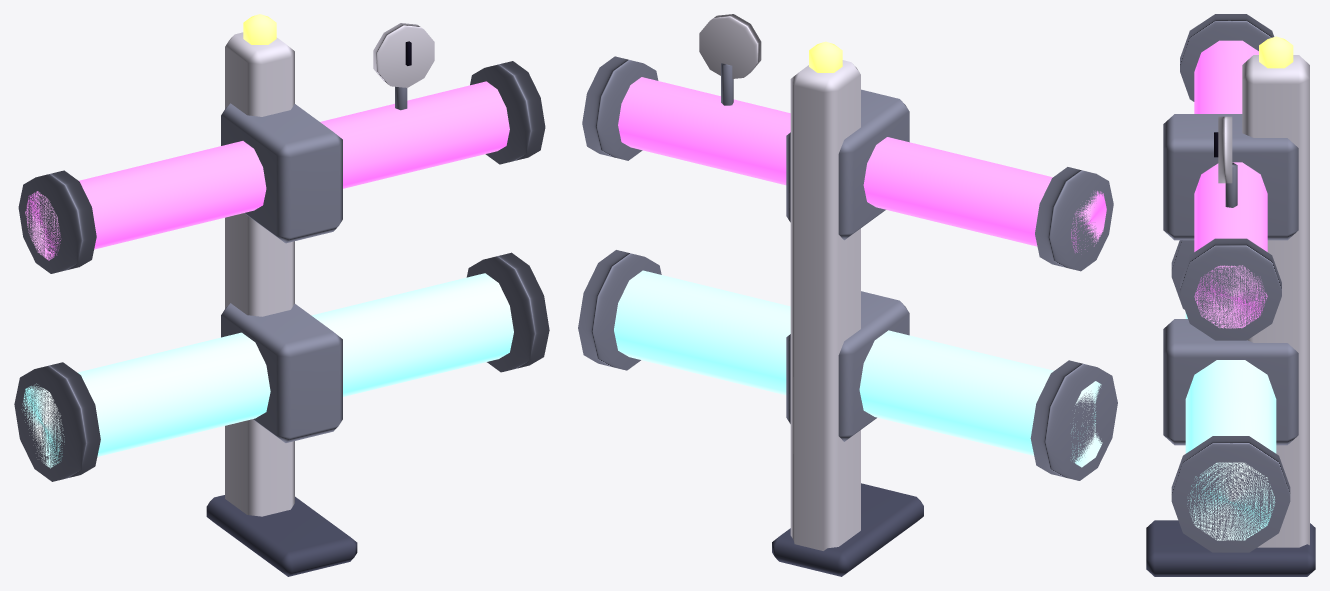
Rendered from tube_pipe.glb.
3 views of the same model, side by side, from view 1: azimuth 30°, elevation 25°; view 2: azimuth 150°, elevation 25°; view 3: azimuth 270°, elevation 25° (orthographic). The views are drawn at different scales.
Visible parts, largest first — view 1: Tubes; view 2: Tubes; view 3: Tubes.
Boxes of the visible parts, box(x1,y1,x2,y2) form: Tubes: box(14, 14, 549, 576); Tubes: box(578, 14, 1117, 576); Tubes: box(1146, 14, 1315, 576).
Size of the model in its own units: 1 by 1.02 by 0.3.
